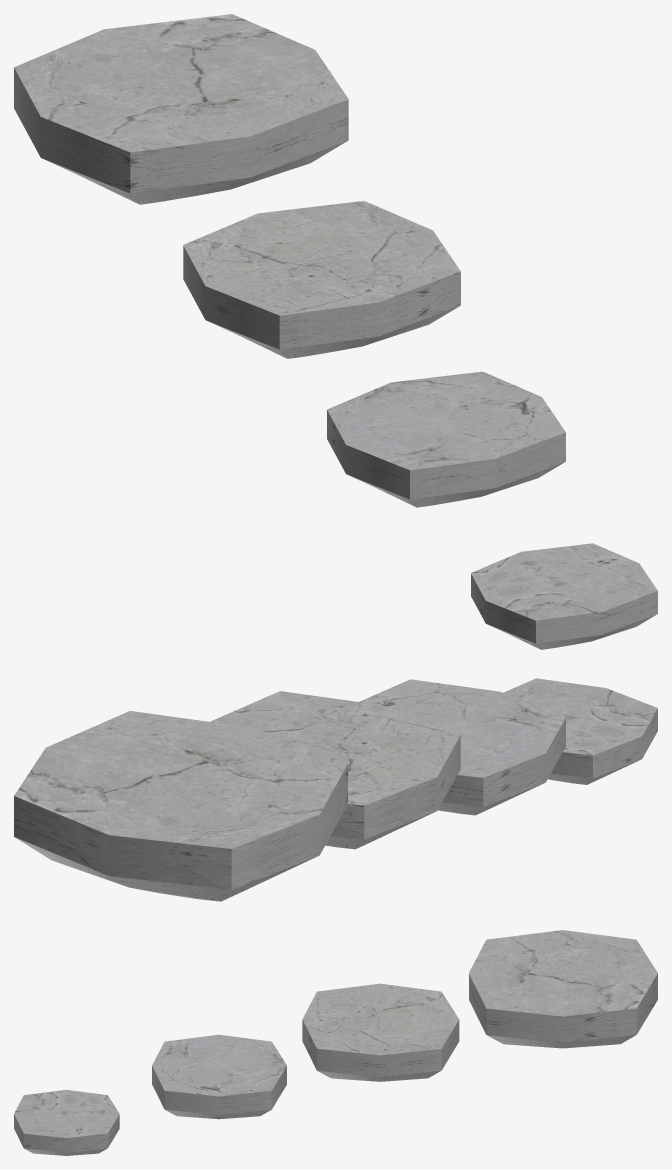
File: floating_rock_stairs.glb
3 views of the same model, one above another, from view 1: azimuth 30°, elevation 25°; view 2: azimuth 150°, elevation 25°; view 3: azimuth 270°, elevation 25° (orthographic). The views are drawn at different scales.
Visible parts, largest first — view 1: pCube2, pasted__pCube2, pasted__pasted__pCube2, pasted__pasted__pasted__pCube2; view 2: pCube2, pasted__pCube2, pasted__pasted__pCube2, pasted__pasted__pasted__pCube2; view 3: pCube2, pasted__pCube2, pasted__pasted__pCube2, pasted__pasted__pasted__pCube2.
Boxes of the visible parts, box(x1,y1,x2,y2) form: pCube2: box(14, 14, 348, 204); pasted__pCube2: box(183, 201, 460, 358); pasted__pasted__pCube2: box(327, 371, 565, 507); pasted__pasted__pasted__pCube2: box(471, 543, 657, 649); pCube2: box(14, 711, 347, 901); pasted__pCube2: box(210, 691, 460, 849); pasted__pasted__pCube2: box(359, 679, 565, 815); pasted__pasted__pasted__pCube2: box(503, 678, 657, 784); pCube2: box(469, 930, 657, 1048); pasted__pCube2: box(302, 983, 459, 1081); pasted__pasted__pCube2: box(152, 1034, 286, 1119); pasted__pasted__pasted__pCube2: box(14, 1089, 119, 1155).
Size of the model in its own units: 7 by 6.61 by 22.02.
1 material, 1 textured.
